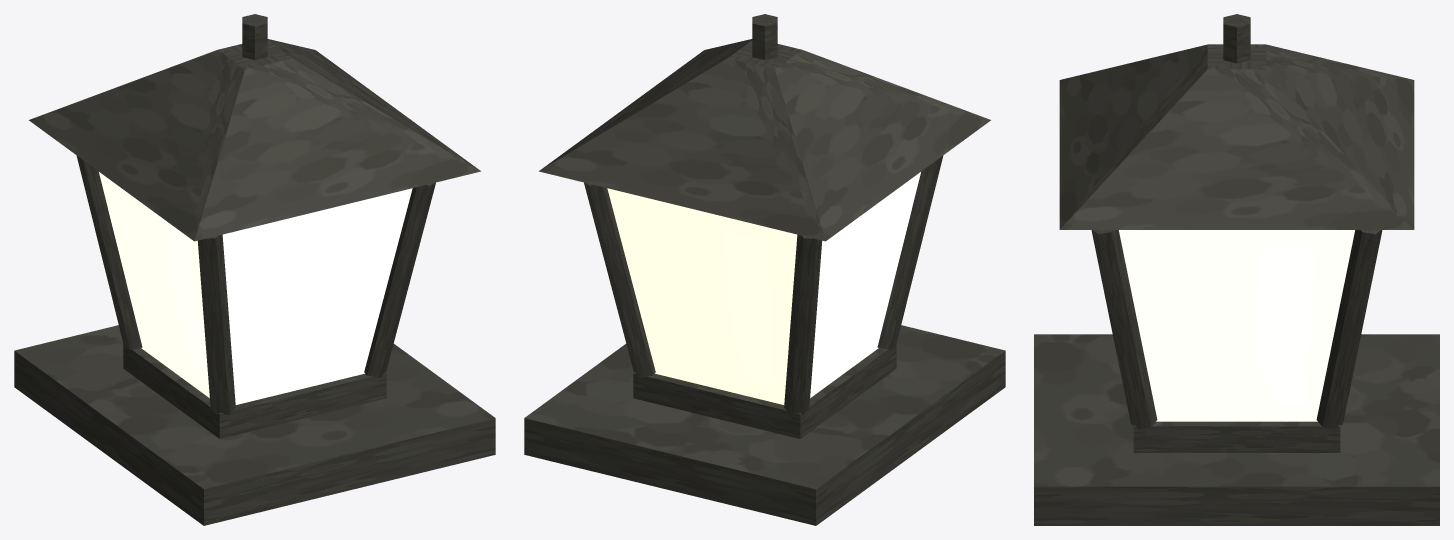
The model's file is lamp_fence.glb.
3 views of the same model, side by side, from view 1: azimuth 30°, elevation 25°; view 2: azimuth 150°, elevation 25°; view 3: azimuth 270°, elevation 25° (orthographic). The views are drawn at different scales.
Parts seen in each view (by area): view 1: outdoor_lamp_fence; view 2: outdoor_lamp_fence; view 3: outdoor_lamp_fence.
Boxes of the visible parts, left/top/right/bottom form: outdoor_lamp_fence: left=14, top=14, right=495, bottom=525; outdoor_lamp_fence: left=524, top=14, right=1005, bottom=525; outdoor_lamp_fence: left=1034, top=14, right=1439, bottom=525.
Bounding box in the file's own units: 0.32 × 0.42 × 0.36.
Materials: 2 (2 with a texture image).
